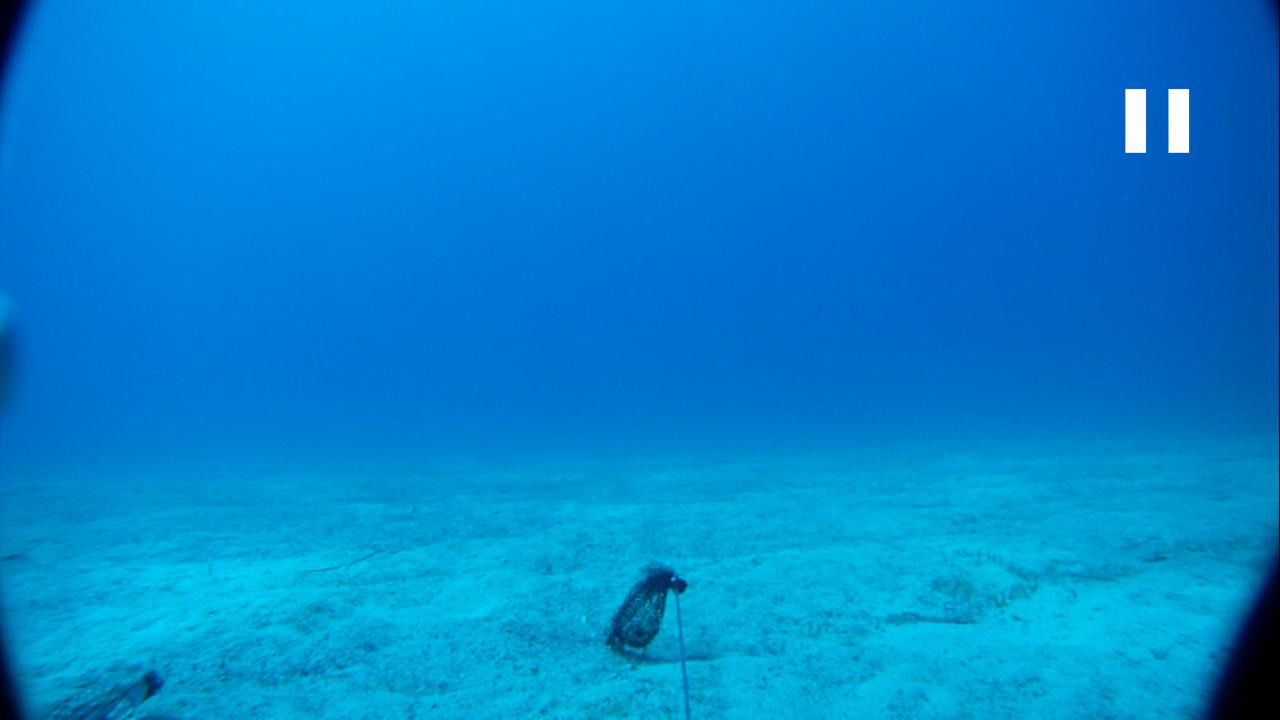dactylopterus: (64, 661, 174, 716)
